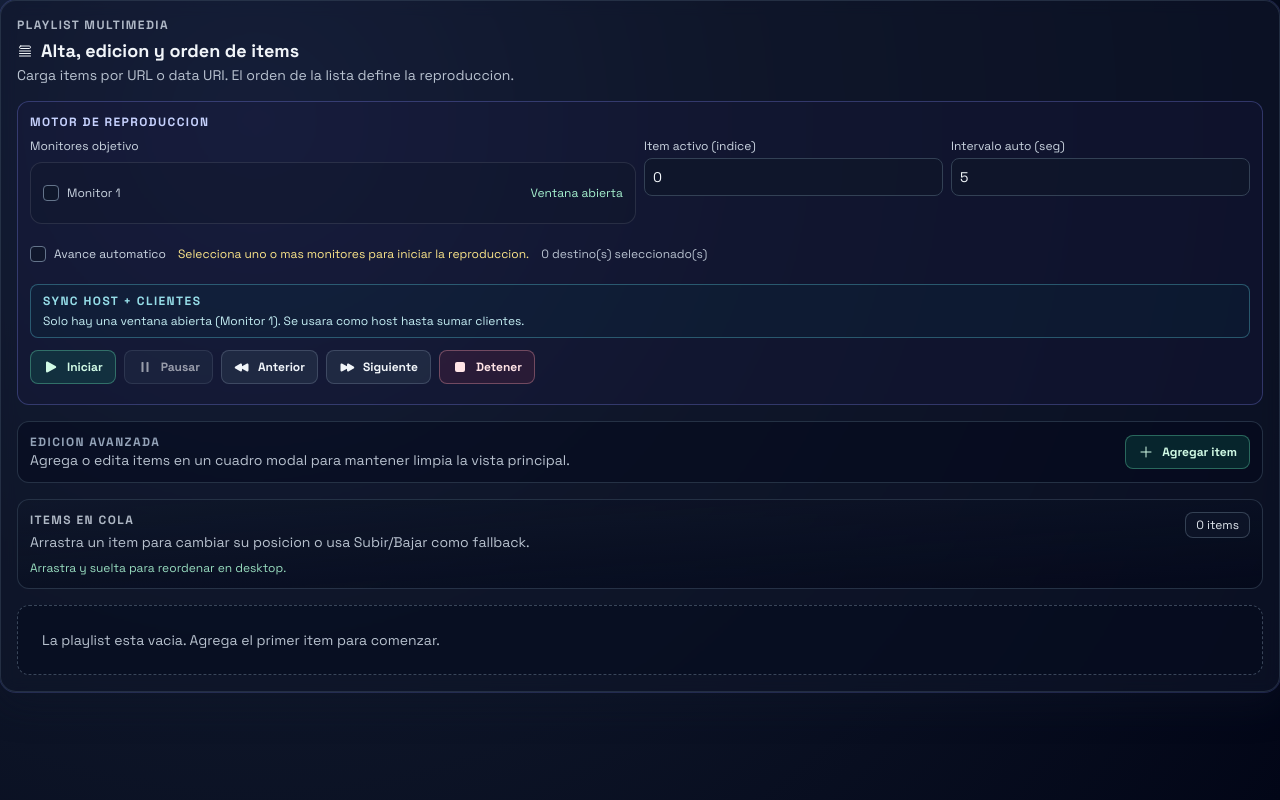
Scenario: components/PlaylistManager › bloquea selector de archivo cuando existe fullscreen activo
Click the button with test id "open-add-item-modal". click: x=1188, y=452
box: [1125, 435, 1250, 469]
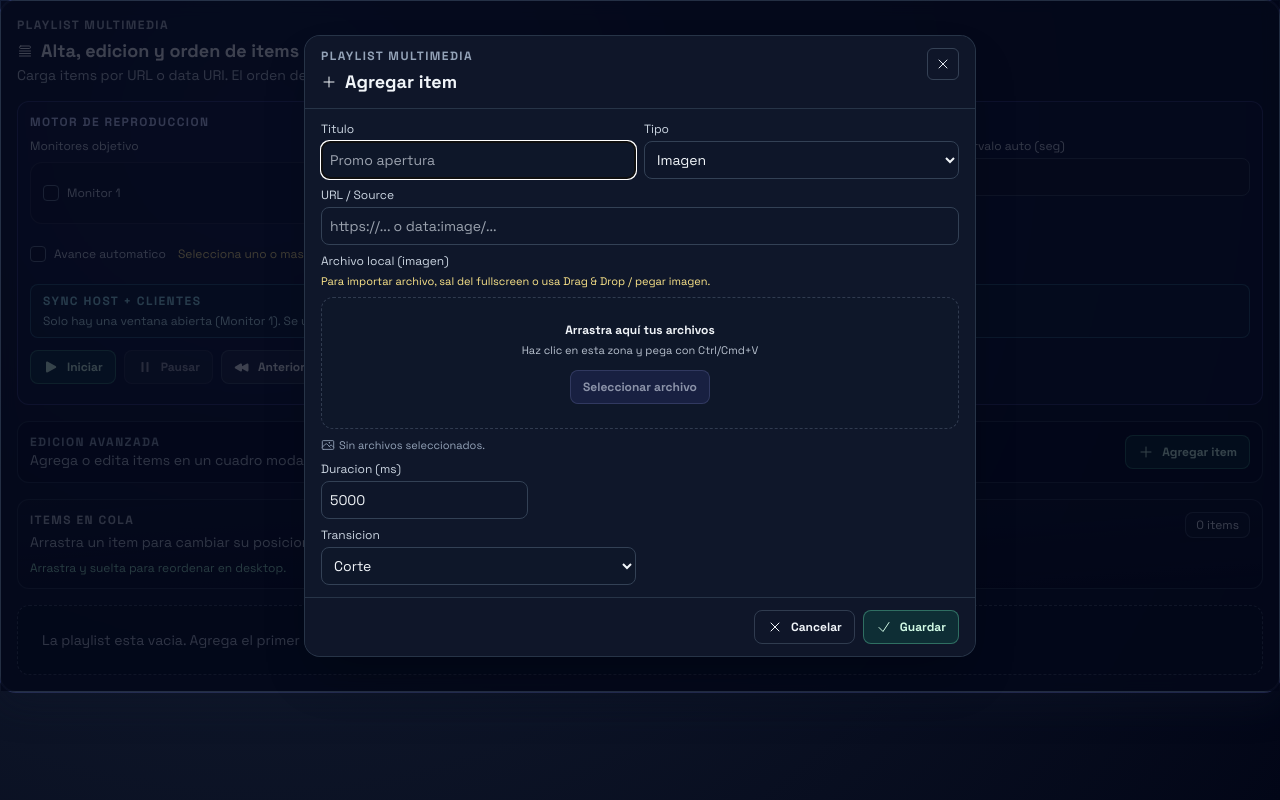
Expected: the dialog with test id "add-item-modal" is shown, [304, 35, 976, 657]
Expected: the button with test id "playlist-add-image-select-button" is disabled, [570, 370, 710, 404]
Expected: the text with test id "playlist-add-file-import-blocked-feedback" shows "sal del fullscreen", [321, 274, 710, 288]
